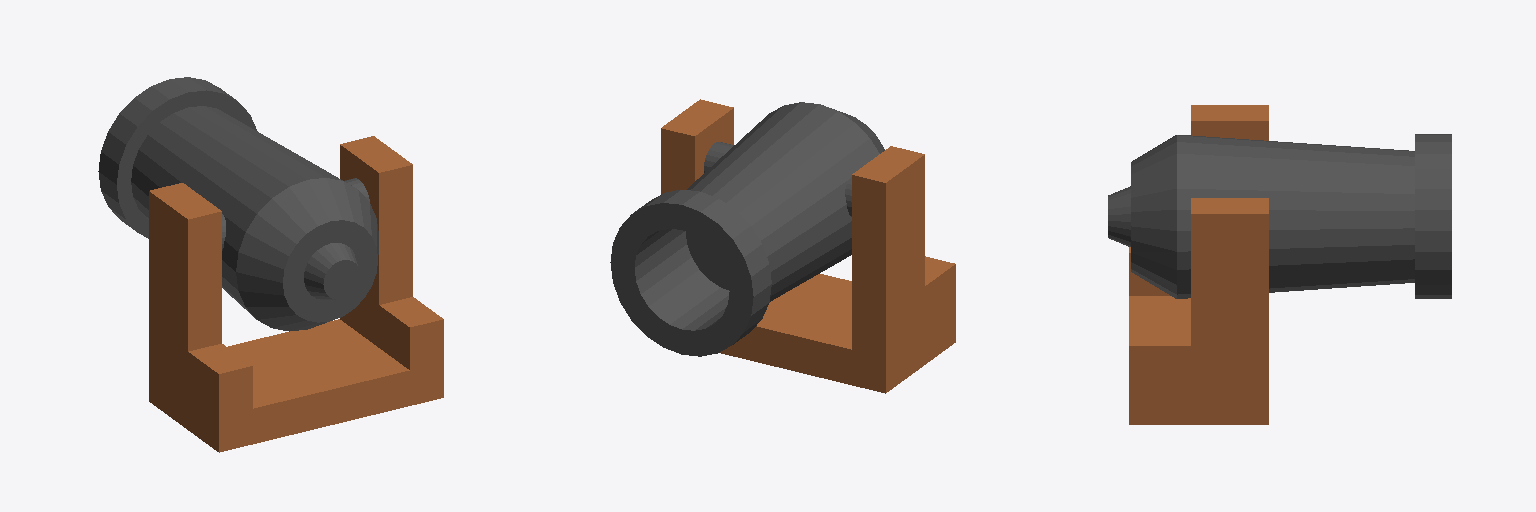
The model's file is cannon.obj.
3 renders of one model, left to right at view 1: azimuth 30°, elevation 25°; view 2: azimuth 150°, elevation 25°; view 3: azimuth 270°, elevation 25°, orthographic.
Visible parts, largest first — view 1: cannon, barrel; view 2: barrel, cannon; view 3: barrel, cannon.
Part boxes in pixels (x1,y1,x2,y2): cannon: (149, 136, 443, 452); barrel: (98, 77, 378, 331); barrel: (610, 102, 884, 356); cannon: (661, 99, 955, 393); barrel: (1108, 134, 1451, 298); cannon: (1129, 105, 1268, 424).
Bounding box in the file's own units: 4.34 × 4.21 × 5.75.